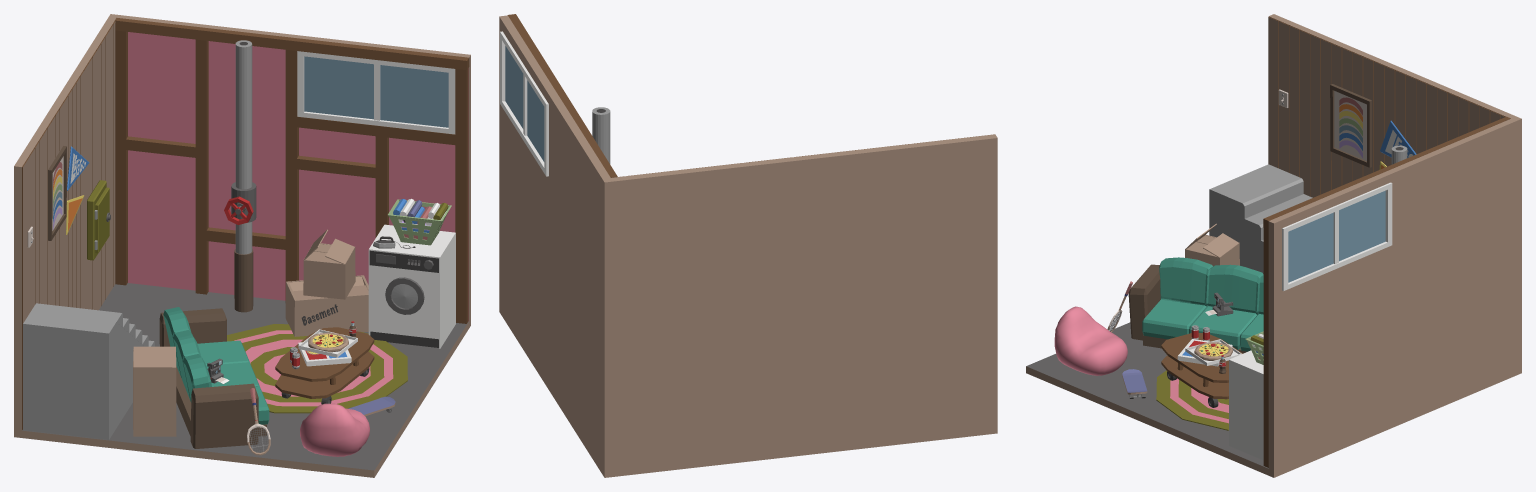
The model's file is Room_20_Basement.fbx.
3 views of the same model, side by side, from view 1: azimuth 30°, elevation 25°; view 2: azimuth 150°, elevation 25°; view 3: azimuth 270°, elevation 25° (orthographic). The views are drawn at different scales.
Parts seen in each view (by area): view 1: Room_20_Base, Room_20_Boards_2, Room_20_Boards_1, Room_20_Stair, Room_20_Window, Room_20_Couch_1, Room_20_Washer, Room_20_Carpet_1, Room_20_Pipe, Room_20_Box_3, Room_20_Table, Room_20_Box_2 (+10 smaller); view 2: Room_20_Base, Room_20_Window, Room_20_Boards_2, Room_20_Pipe; view 3: Room_20_Base, Room_20_Boards_1, Room_20_Couch_1, Room_20_Window, Room_20_Stair, Room_20_Pouf, Room_20_Washer, Room_20_Picture_1, Room_20_Boards_2, Room_20_Table, Room_20_Carpet_1, Room_20_Box_3 (+3 smaller).
Boxes of the visible parts, bbox=[...] form: Room_20_Base: bbox=[14, 14, 470, 477]; Room_20_Boards_2: bbox=[114, 17, 469, 323]; Room_20_Boards_1: bbox=[22, 21, 115, 429]; Room_20_Stair: bbox=[23, 303, 154, 439]; Room_20_Window: bbox=[297, 51, 455, 134]; Room_20_Couch_1: bbox=[159, 307, 269, 448]; Room_20_Washer: bbox=[368, 224, 455, 348]; Room_20_Carpet_1: bbox=[227, 324, 407, 413]; Room_20_Pipe: bbox=[224, 40, 256, 312]; Room_20_Box_3: bbox=[133, 346, 176, 436]; Room_20_Table: bbox=[275, 327, 374, 404]; Room_20_Box_2: bbox=[285, 275, 368, 336]; Room_20_Base: bbox=[499, 15, 997, 477]; Room_20_Window: bbox=[500, 31, 548, 176]; Room_20_Boards_2: bbox=[508, 14, 617, 177]; Room_20_Pipe: bbox=[592, 107, 610, 163]; Room_20_Base: bbox=[1026, 14, 1521, 477]; Room_20_Boards_1: bbox=[1268, 17, 1509, 197]; Room_20_Couch_1: bbox=[1128, 257, 1263, 353]; Room_20_Window: bbox=[1282, 182, 1392, 290]; Room_20_Stair: bbox=[1209, 164, 1312, 274]; Room_20_Pouf: bbox=[1054, 306, 1127, 375]; Room_20_Washer: bbox=[1229, 350, 1263, 460]; Room_20_Picture_1: bbox=[1330, 84, 1371, 167]; Room_20_Boards_2: bbox=[1263, 116, 1510, 467]; Room_20_Table: bbox=[1161, 333, 1242, 407]; Room_20_Carpet_1: bbox=[1156, 370, 1228, 430]; Room_20_Box_3: bbox=[1185, 223, 1239, 266].
Bounding box in the file's own units: 707 × 707 × 403.
